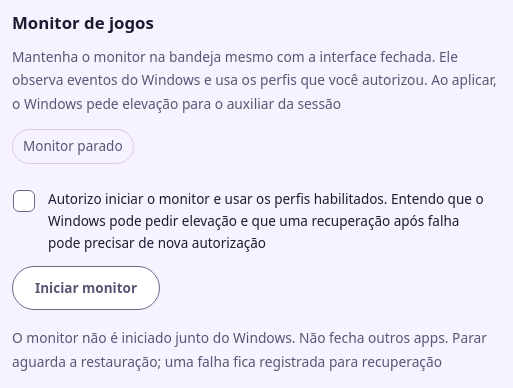
Scenario: monitor starts on demand with acknowledgement and stops separately
This screenshot has width=513, height=388.
Check: the button "Iniciar monitor" is disabled, box x1=12 y1=266 x2=160 y2=310
Click the checkbox named "Autorizo iniciar o monitor e usar os perfis habilitados. Entendo que o Windows pode pedir elevação e que uma recuperação": (24, 201) x1=13 y1=190 x2=35 y2=212
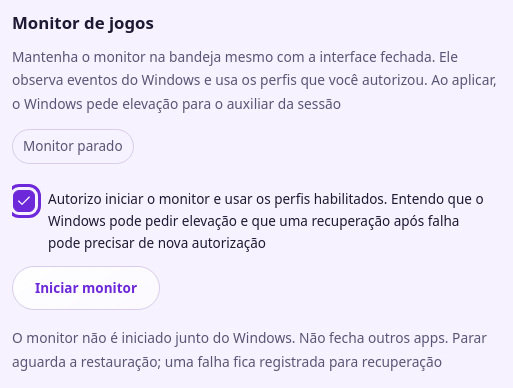
Click the button "Iniciar monitor": (86, 288) x1=12 y1=266 x2=160 y2=310
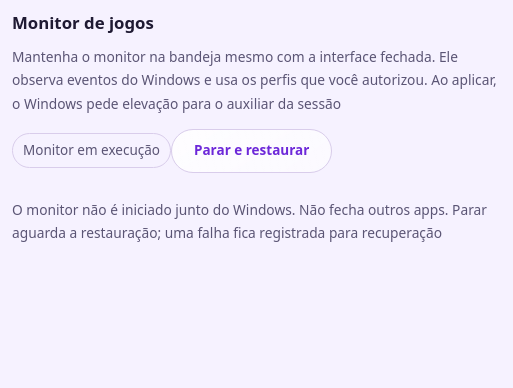
Check: the text "Monitor em execução" is shown, box x1=12 y1=134 x2=171 y2=168
Click the button "Parar e restaurar": (252, 151) x1=171 y1=129 x2=332 y2=173
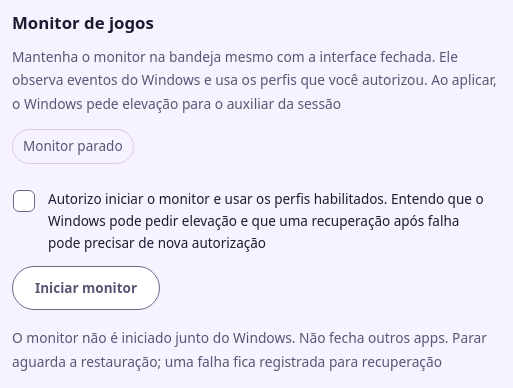
Check: the text "Monitor parado" is shown, box x1=12 y1=129 x2=134 y2=164
